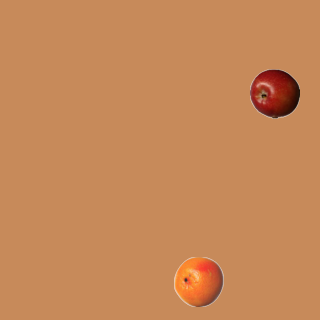Apple Braeburn: (249, 68, 299, 118)
Grapefruit Pink: (173, 256, 223, 306)
